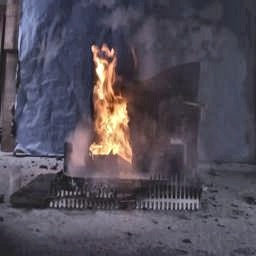fire: (79, 39, 148, 165)
